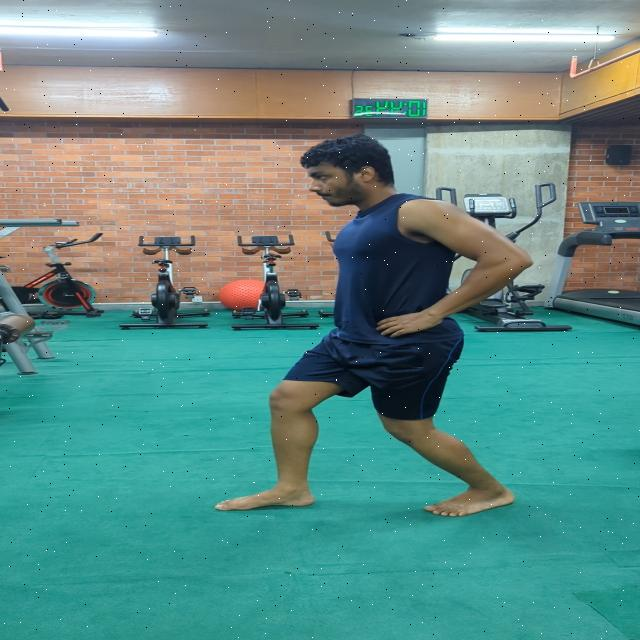Normal_Lunges: (197, 127, 550, 523)
